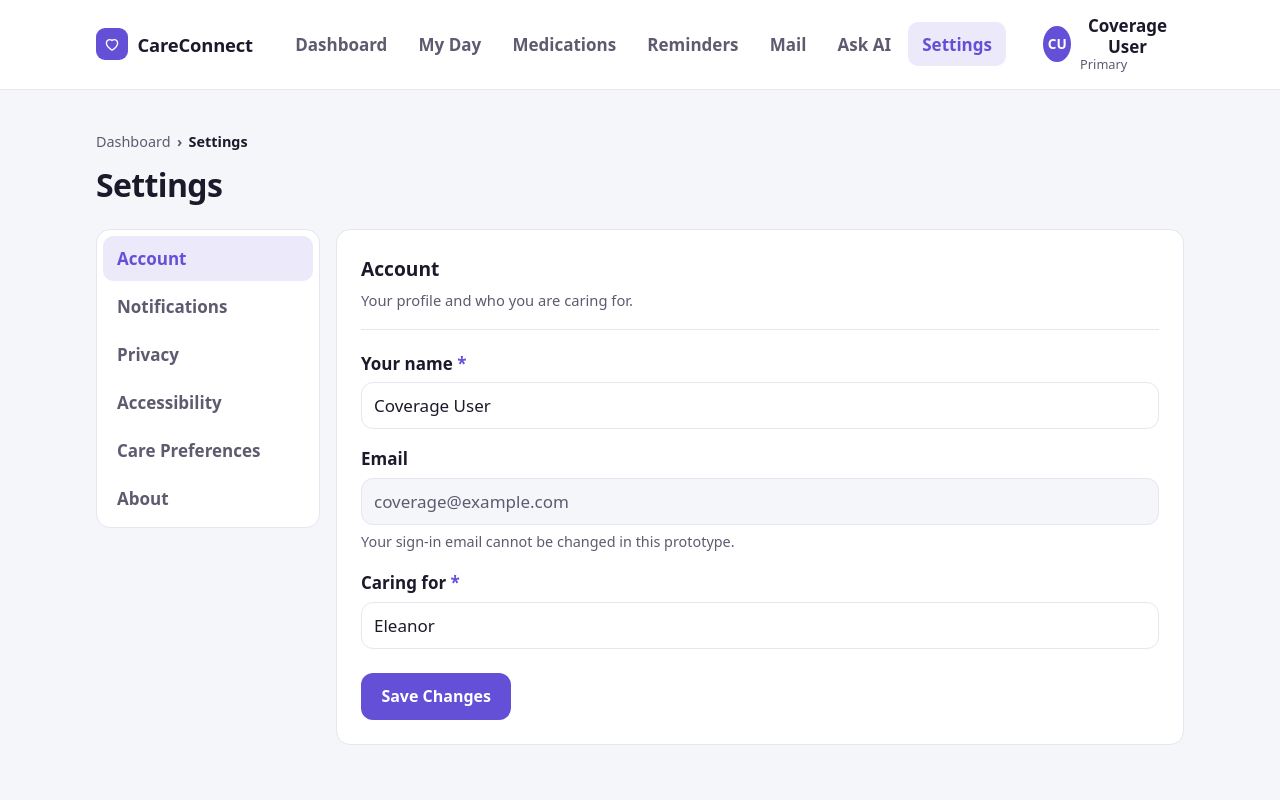
Test: coverage gaps — settings sections › clears account field errors as the user types
The width and height of the screenshot is (1280, 800).
Check: the heading "Account" is shown, box top-left (361, 254), bottom-right (439, 282)
Clear the field labelled "Your name *": (760, 406) top-left (361, 382), bottom-right (1159, 429)
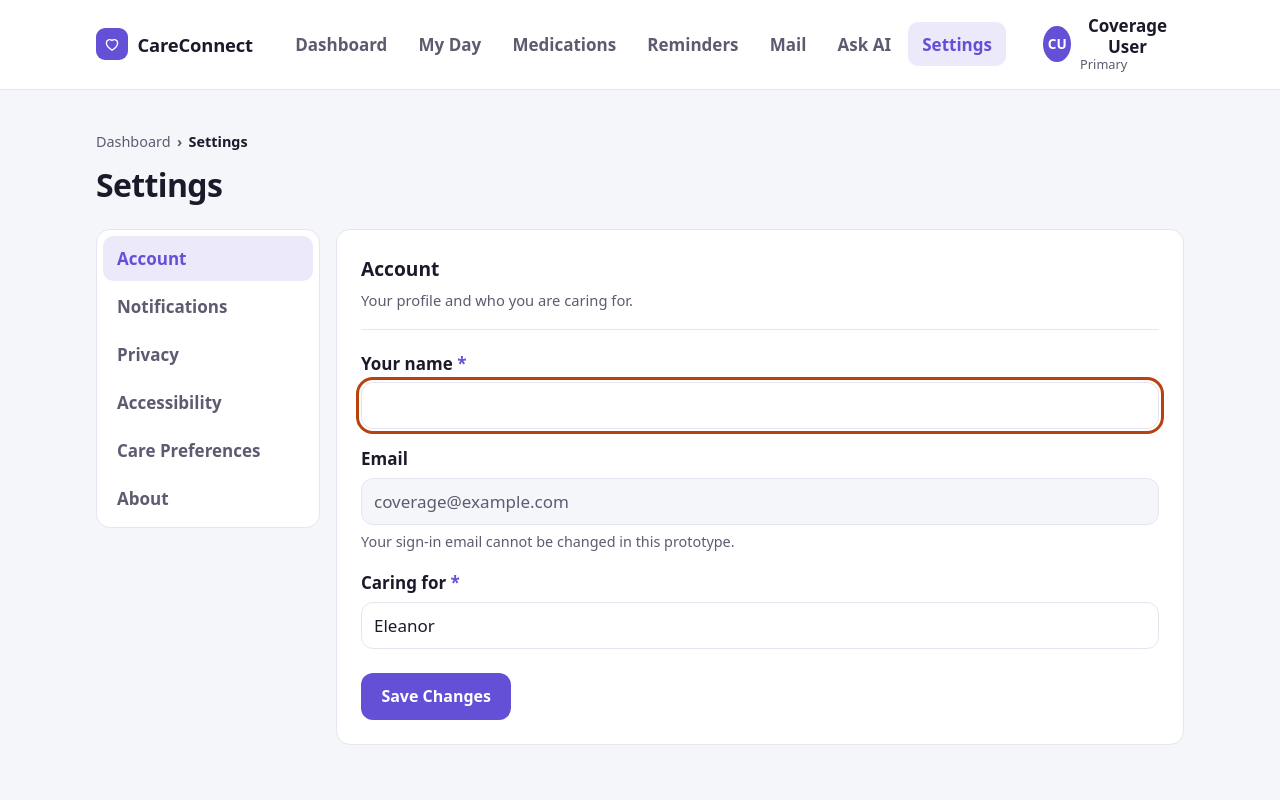
Clear the field labelled "Caring for *": (760, 626) top-left (361, 602), bottom-right (1159, 649)
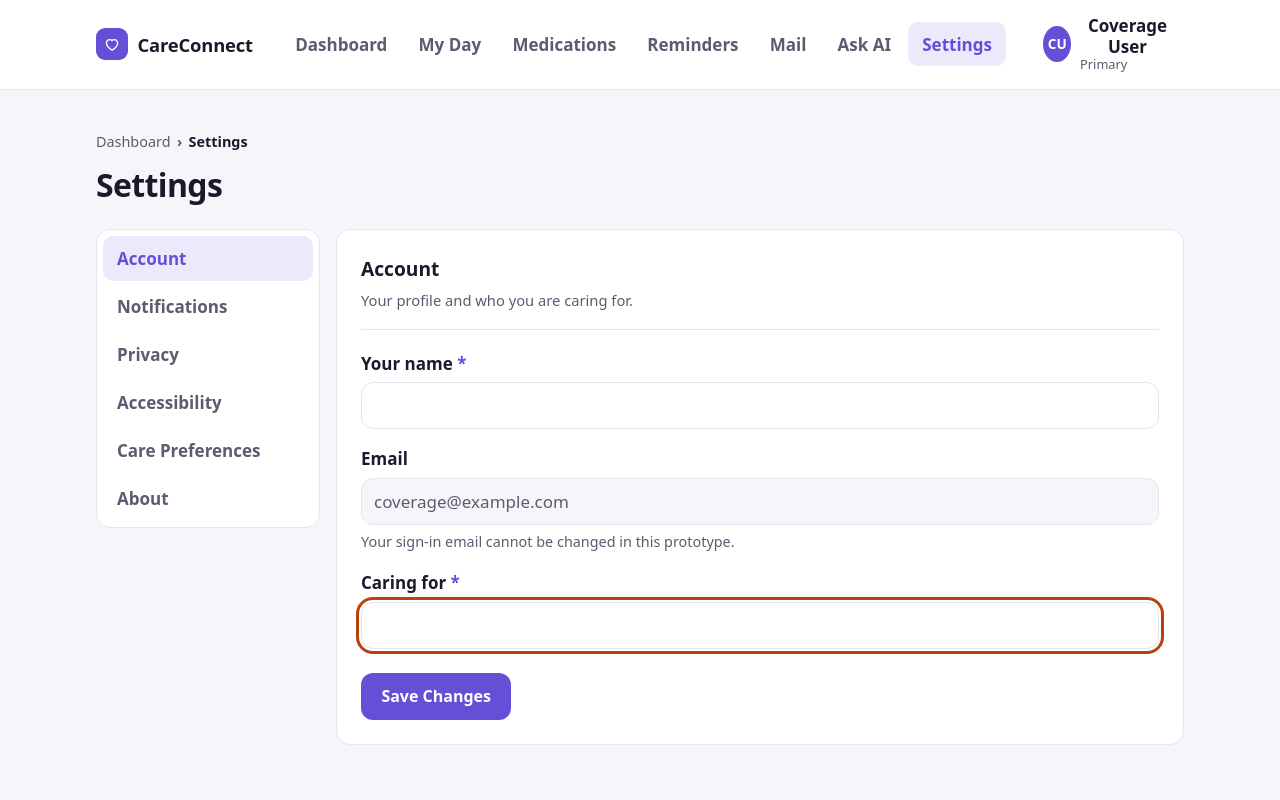
Click the button "Save Changes": (436, 696) top-left (361, 673), bottom-right (511, 720)
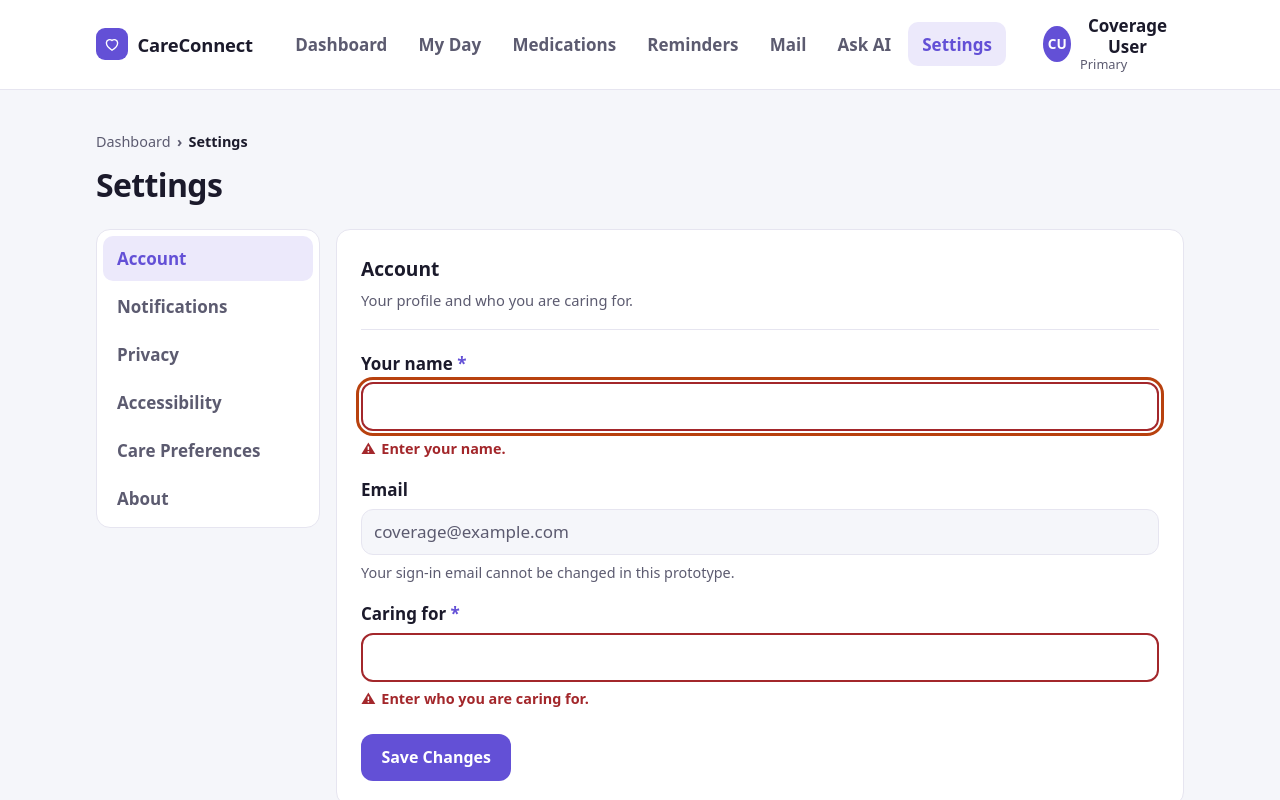
In the field labelled "Your name *": (760, 407) top-left (361, 382), bottom-right (1159, 431), type "A"
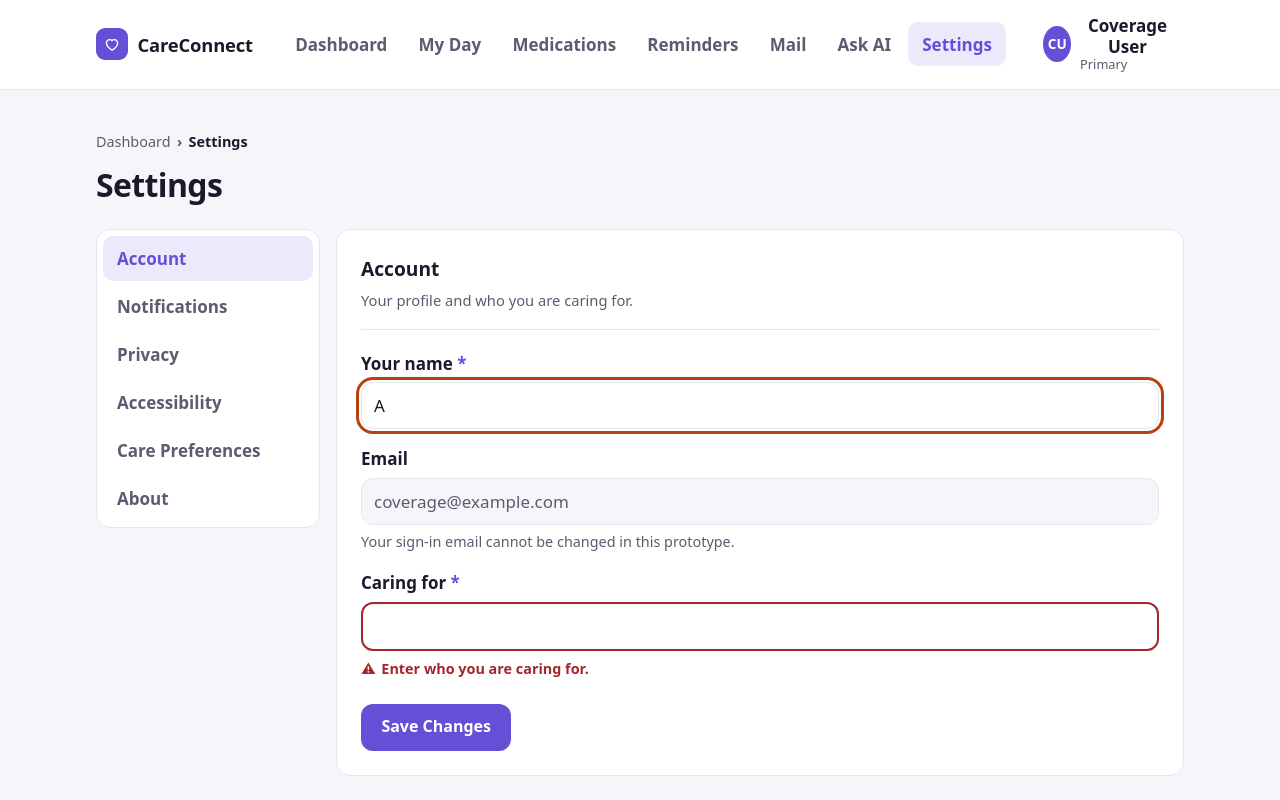
Check: the text "Enter your name" is gone
In the field labelled "Caring for *": (760, 627) top-left (361, 602), bottom-right (1159, 651), type "B"
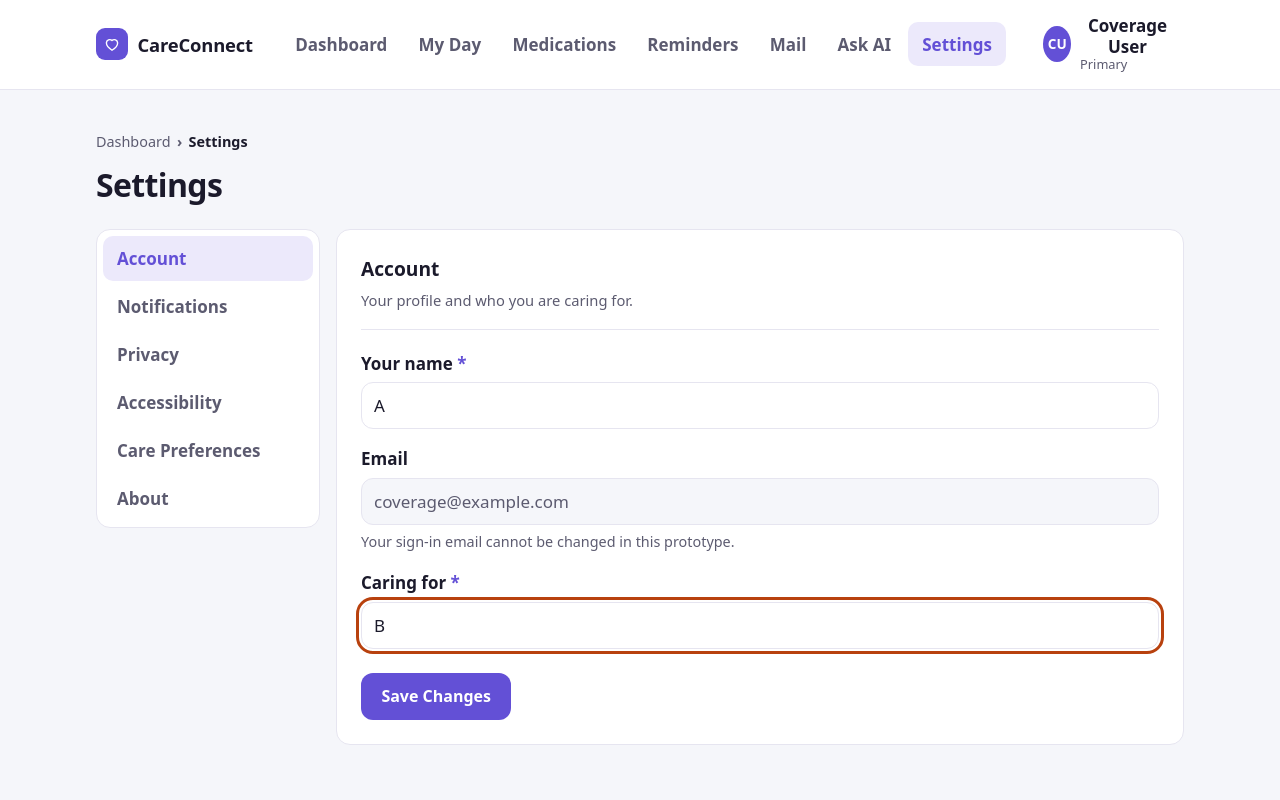
Check: the text "Enter who you are caring for" is gone
